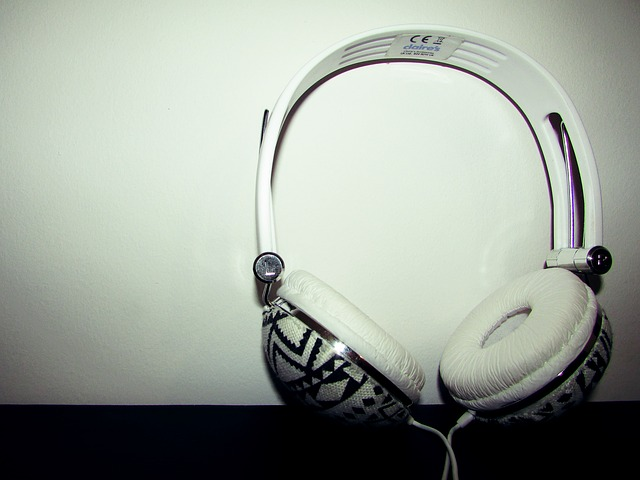headphones: (254, 24, 614, 425)
